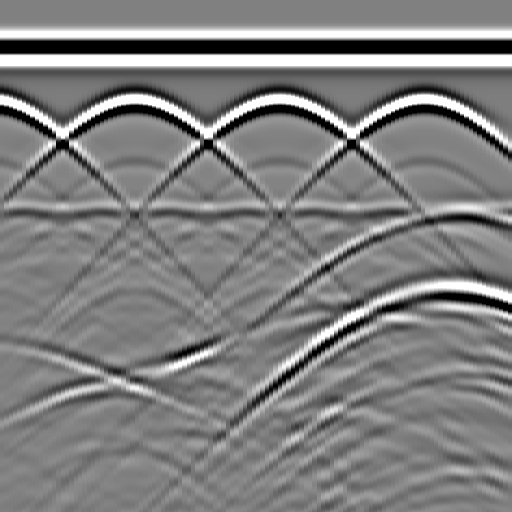grout_surface: (1, 196, 512, 226)
rebar: (113, 83, 153, 123), (257, 83, 297, 123), (401, 83, 441, 123)
rock_surface: (1, 312, 511, 387)
water_void: (422, 189, 482, 229)
